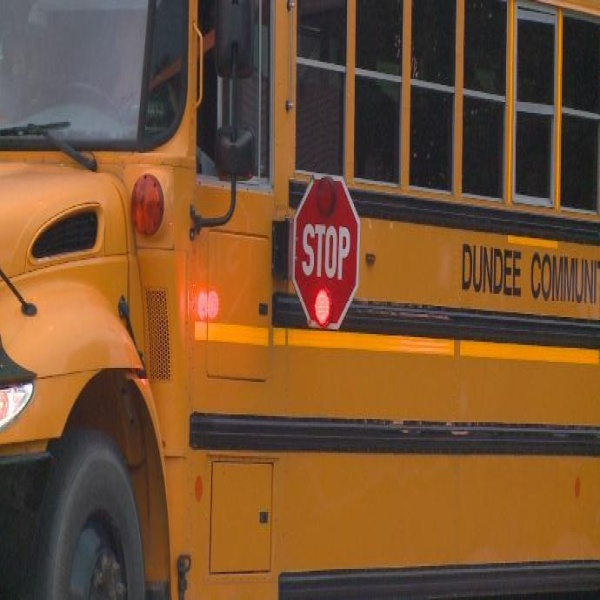stop: (292, 179, 362, 337)
